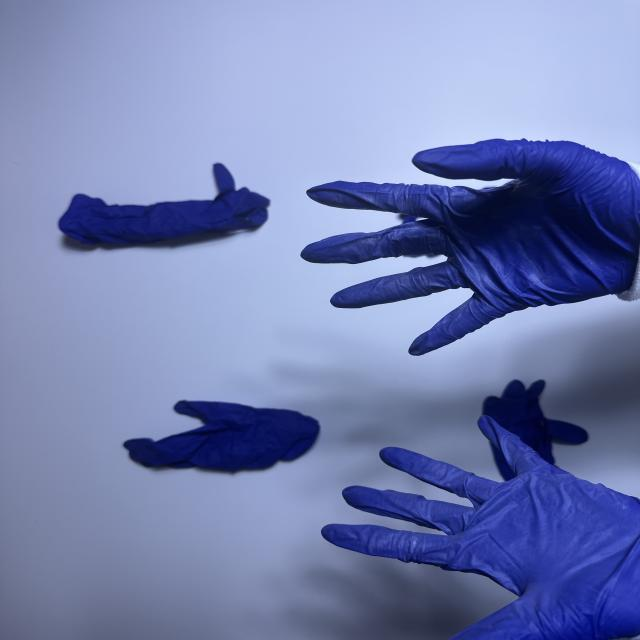gloves_contaminated: (301, 140, 640, 356), (322, 416, 640, 640)
